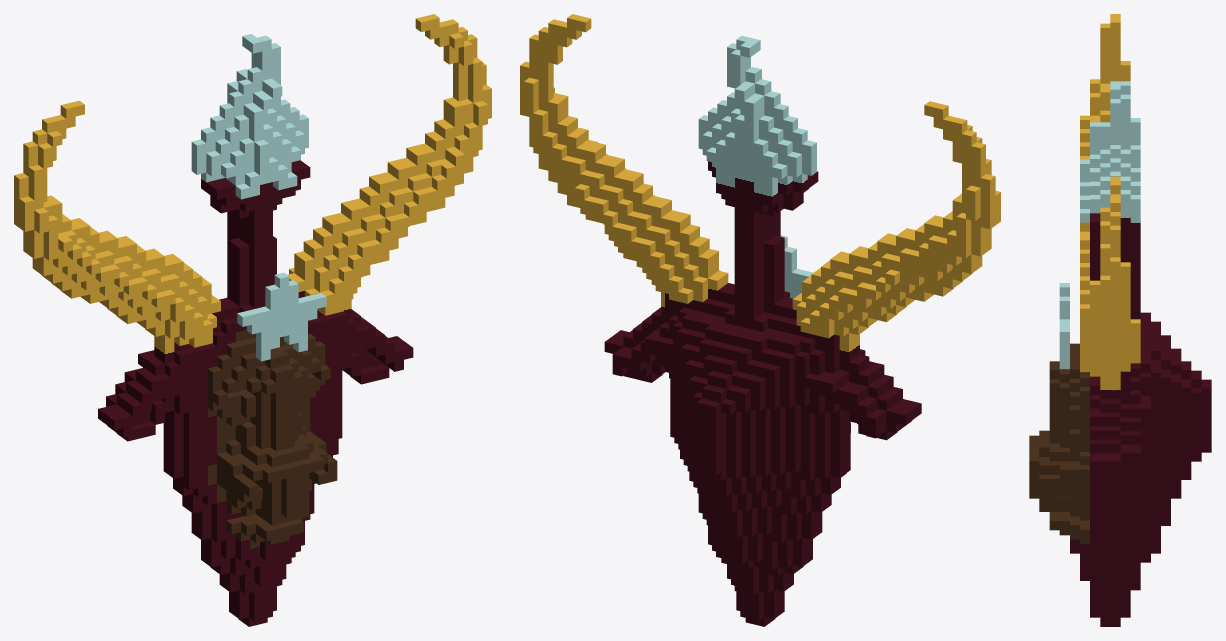
The model's file is Baphomet.dae.
3 renders of one model, left to right at view 1: azimuth 30°, elevation 25°; view 2: azimuth 150°, elevation 25°; view 3: azimuth 270°, elevation 25°, orthographic. The views are drawn at different scales.
Visible parts, largest first — view 1: Baphomet; view 2: Baphomet; view 3: Baphomet.
Boxes of the visible parts, x1,y1,x2,y2 form: Baphomet: (14,14,491,626); Baphomet: (520,14,1000,626); Baphomet: (1029,14,1211,626).
Bounding box in the file's own units: 5 × 5.9 × 1.8.
1 material, 1 textured.
